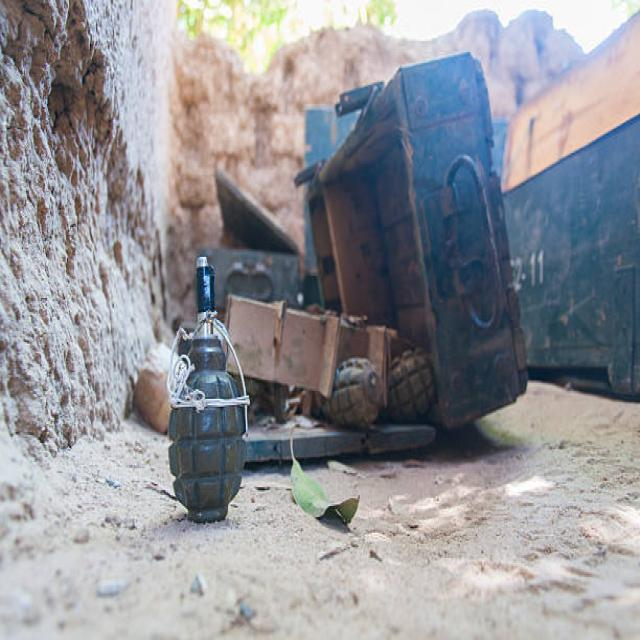grenade: (161, 257, 254, 536), (326, 354, 388, 433), (388, 351, 444, 430)
